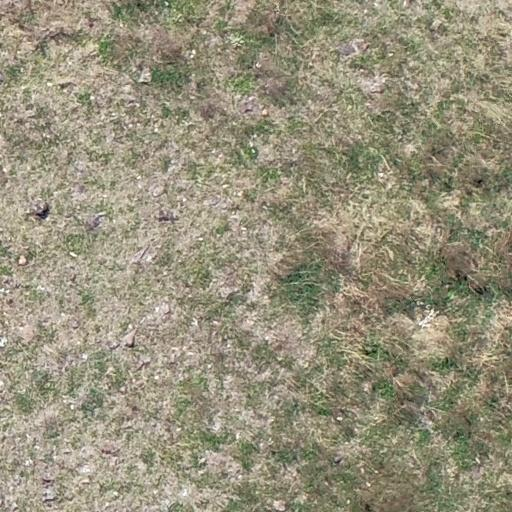stone: (336, 36, 370, 60), (127, 242, 155, 268), (118, 325, 144, 349), (83, 211, 108, 234), (27, 196, 51, 218), (417, 308, 437, 328), (155, 208, 180, 223), (134, 66, 154, 84), (402, 77, 421, 94), (367, 78, 386, 94), (224, 287, 242, 303), (41, 487, 57, 503), (132, 358, 150, 372), (100, 444, 120, 456), (429, 19, 445, 33), (207, 418, 222, 432), (272, 498, 286, 512), (106, 338, 120, 352), (159, 303, 172, 317), (68, 317, 80, 331), (78, 464, 93, 474), (178, 486, 190, 498), (18, 254, 28, 266), (332, 454, 344, 464), (242, 104, 254, 114), (78, 476, 90, 486), (41, 476, 53, 485), (0, 336, 8, 348), (190, 318, 199, 328), (86, 19, 95, 29), (261, 108, 269, 117), (189, 49, 196, 59), (254, 61, 262, 69), (69, 251, 78, 258), (81, 353, 88, 360), (2, 166, 8, 174), (89, 94, 95, 102), (212, 320, 220, 326), (235, 432, 241, 440), (46, 82, 54, 88), (112, 490, 118, 498), (336, 416, 343, 422), (366, 481, 372, 488), (378, 172, 384, 178), (222, 183, 228, 189), (154, 374, 160, 380), (154, 306, 160, 312), (196, 237, 204, 241), (70, 404, 75, 410)
